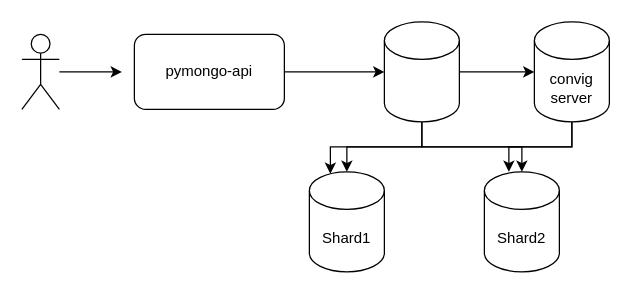
Some shapes in this 631 by 294 pixel diagram are drawn without their labels. The shapes that lost their labels are listed below. From the top down, each one's centre as x and y in pixels, then its label:
At [40,71]: "Actor".
At [421,71]: "mongos router".
